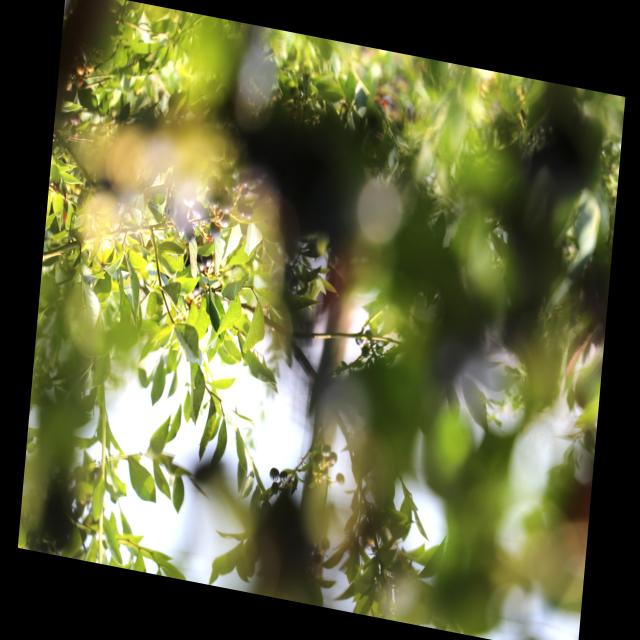blueberry: (215, 191, 234, 214), (181, 184, 197, 208), (173, 212, 188, 234), (183, 224, 197, 247), (190, 200, 204, 219), (207, 175, 220, 194), (217, 211, 231, 227), (238, 172, 251, 189), (200, 252, 213, 269), (189, 279, 202, 296), (208, 222, 220, 240), (242, 204, 254, 221), (208, 193, 218, 209), (290, 276, 299, 292), (236, 204, 245, 218)
